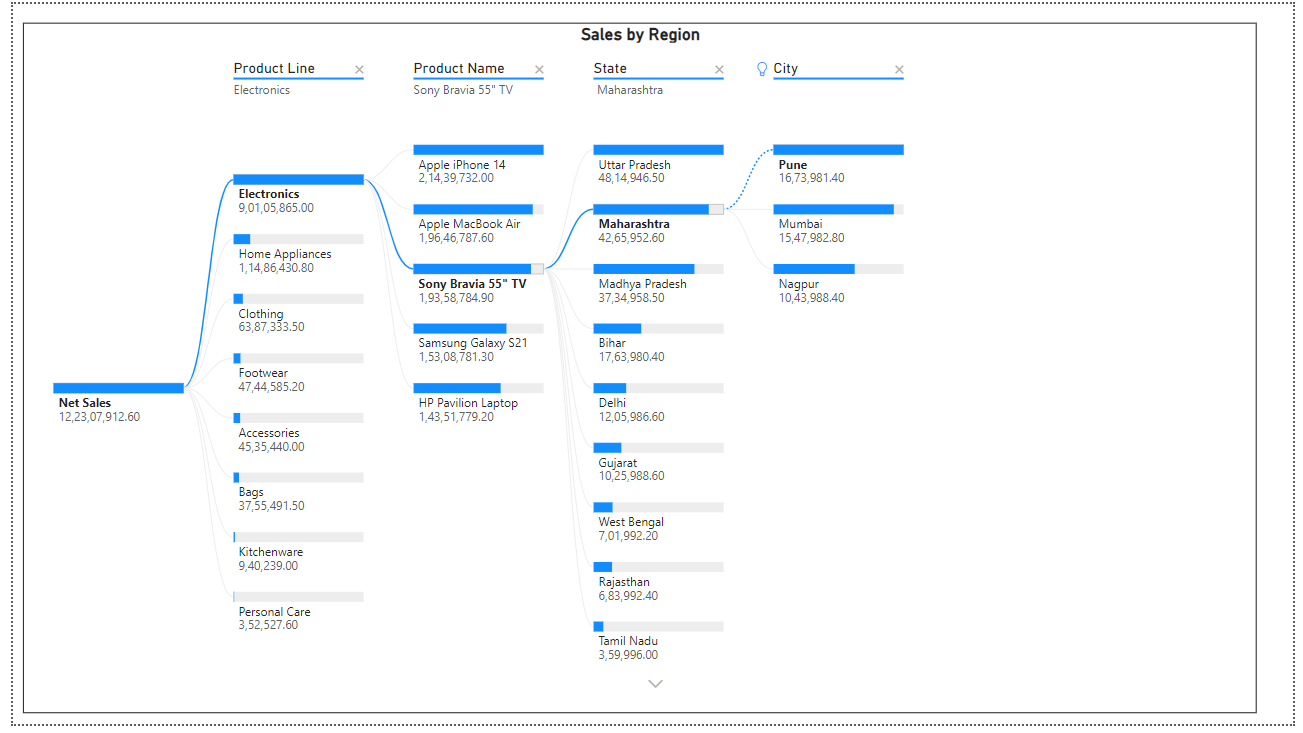

This screenshot's page, from the dashboard's own definition file:
{"tool":"powerbi","page":{"name":"Sales by Region","canvas":[1280,720],"ordinal":8},"visuals":[{"type":"decompositionTreeVisual","title":"Sales by Region ","fields":{"ExplainBy":["Dim Product.Product Line","Dim Product.Product Name","Dim Customers.State","Dim Customers.City"],"Analyze":["Sum(Fact Table.Net Sales)"]},"box":[9.6,19.2,1233.6,690.2],"z":0}]}

Visuals, with their boxes in screenshot pixels (x1, y1, x2, y2), scaled from the page's 1280x720 canvas onto the 1303x733 screenshot:
"Sales by Region " decompositionTreeVisual: (x1=10, y1=20, x2=1266, y2=722)
